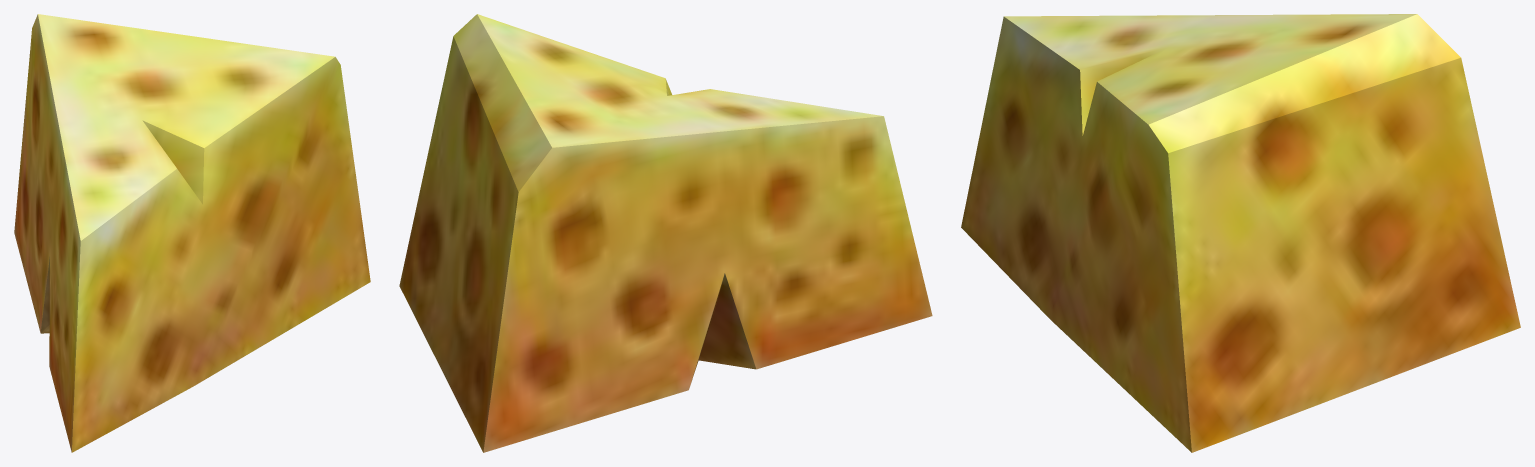
File: SM_cheese_00.gltf
3 renders of one model, left to right at view 1: azimuth 30°, elevation 25°; view 2: azimuth 150°, elevation 25°; view 3: azimuth 270°, elevation 25°, orthographic. The views are drawn at different scales.
Parts seen in each view (by area): view 1: SM_cheese_00; view 2: SM_cheese_00; view 3: SM_cheese_00.
Part boxes in pixels (x1,y1,x2,y2): SM_cheese_00: (14,14,370,452); SM_cheese_00: (399,14,932,452); SM_cheese_00: (961,14,1520,452).
Bounding box in the file's own units: 0.2179 × 0.1358 × 0.2256.
1 material, 1 textured.
